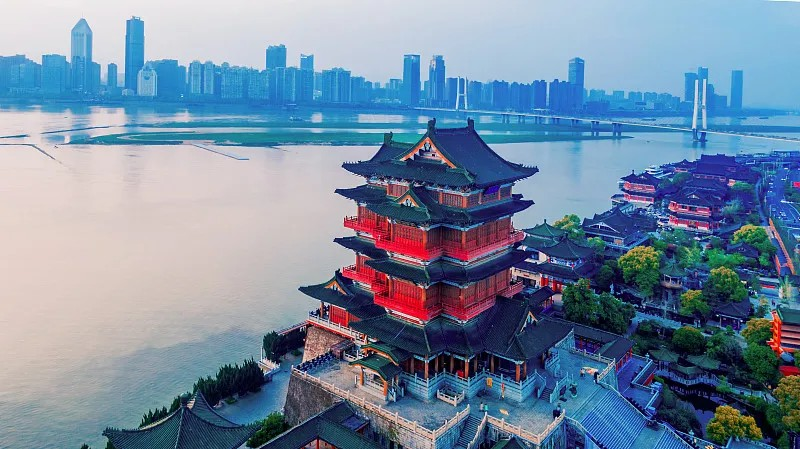Teng: (298, 118, 576, 389)
